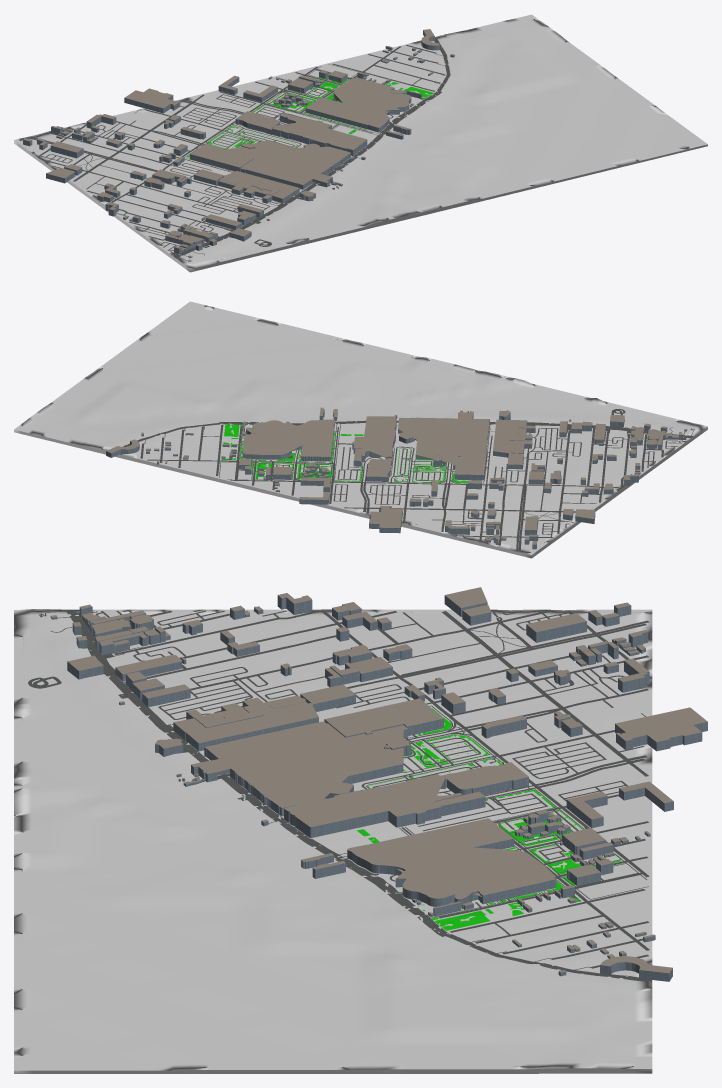
File: 04_nj_atl_city.fbx
3 renders of one model, top to bottom at view 1: azimuth 30°, elevation 25°; view 2: azimuth 150°, elevation 25°; view 3: azimuth 270°, elevation 25°, orthographic. The views are drawn at different scales.
Visible parts, largest first — view 1: Terrain, map_3.osm_buildings_top, map_3.osm_buildings, map_3.osm_roads_service, map_3.osm_roads_residential, map_3.osm_roads_tertiary, map_3.osm_areas_pedestrian, map_3.osm_vegetation, map_3.osm_paths_footway, map_3.osm_roads_pedestrian; view 2: Terrain, map_3.osm_buildings_top, map_3.osm_buildings, map_3.osm_roads_service, map_3.osm_roads_residential, map_3.osm_roads_tertiary, map_3.osm_vegetation, map_3.osm_paths_footway, map_3.osm_areas_pedestrian, map_3.osm_roads_pedestrian; view 3: Terrain, map_3.osm_buildings_top, map_3.osm_buildings, map_3.osm_roads_service, map_3.osm_roads_residential, map_3.osm_roads_tertiary, map_3.osm_areas_pedestrian, map_3.osm_vegetation, map_3.osm_paths_footway, map_3.osm_roads_pedestrian, map_3.osm_roads_primary.
Part boxes in pixels (left/top/right/bottom): Terrain: left=14, top=14, right=707, bottom=272; map_3.osm_buildings_top: left=23, top=29, right=454, bottom=256; map_3.osm_buildings: left=23, top=30, right=454, bottom=257; map_3.osm_roads_service: left=40, top=78, right=422, bottom=250; map_3.osm_roads_residential: left=49, top=45, right=444, bottom=240; map_3.osm_roads_tertiary: left=28, top=67, right=341, bottom=202; map_3.osm_areas_pedestrian: left=172, top=37, right=450, bottom=258; map_3.osm_vegetation: left=187, top=75, right=433, bottom=158; map_3.osm_paths_footway: left=78, top=53, right=447, bottom=261; map_3.osm_roads_pedestrian: left=176, top=38, right=449, bottom=257; Terrain: left=14, top=301, right=707, bottom=558; map_3.osm_buildings_top: left=106, top=407, right=686, bottom=544; map_3.osm_buildings: left=106, top=410, right=687, bottom=549; map_3.osm_roads_service: left=202, top=427, right=681, bottom=537; map_3.osm_roads_residential: left=140, top=425, right=663, bottom=545; map_3.osm_roads_tertiary: left=230, top=462, right=618, bottom=551; map_3.osm_vegetation: left=222, top=424, right=482, bottom=482; map_3.osm_paths_footway: left=144, top=424, right=694, bottom=524; map_3.osm_areas_pedestrian: left=124, top=417, right=693, bottom=481; map_3.osm_roads_pedestrian: left=122, top=421, right=690, bottom=446; Terrain: left=14, top=609, right=652, bottom=1073; map_3.osm_buildings_top: left=51, top=587, right=707, bottom=973; map_3.osm_buildings: left=50, top=595, right=707, bottom=981; map_3.osm_roads_service: left=95, top=610, right=644, bottom=935; map_3.osm_roads_residential: left=114, top=610, right=649, bottom=968; map_3.osm_roads_tertiary: left=322, top=610, right=649, bottom=877; map_3.osm_areas_pedestrian: left=65, top=609, right=651, bottom=982; map_3.osm_vegetation: left=357, top=708, right=621, bottom=930; map_3.osm_paths_footway: left=39, top=611, right=648, bottom=970; map_3.osm_roads_pedestrian: left=68, top=610, right=646, bottom=980; map_3.osm_roads_primary: left=442, top=611, right=647, bottom=763.
Size of the model in its own units: 194506 by 3461 by 121028.
